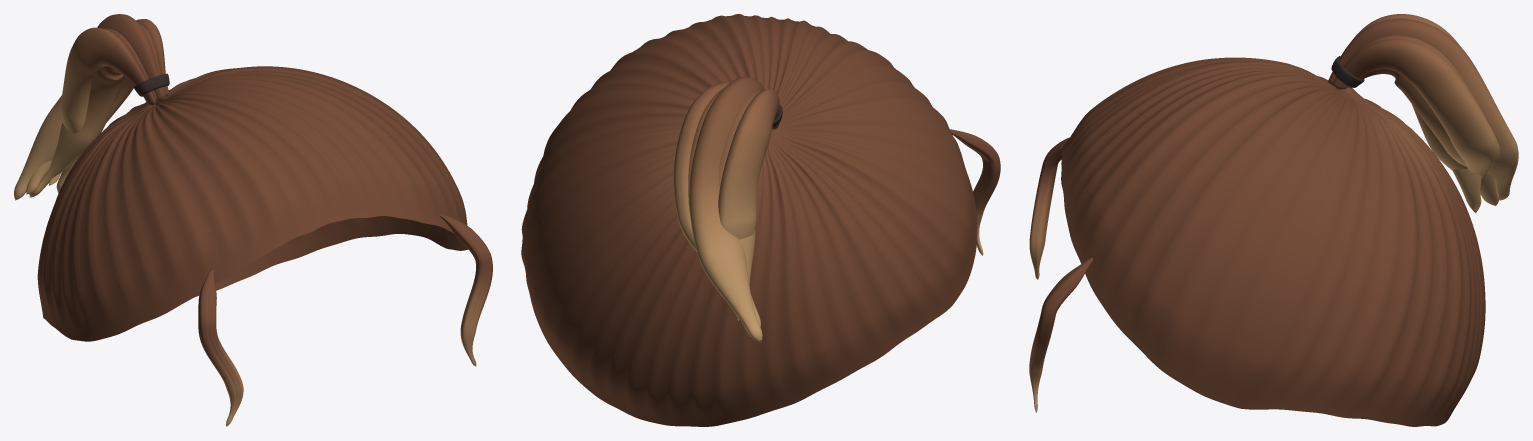
The model's file is ponytail-ears-ombre.glb.
3 views of the same model, side by side, from view 1: azimuth 30°, elevation 25°; view 2: azimuth 150°, elevation 25°; view 3: azimuth 270°, elevation 25° (orthographic). The views are drawn at different scales.
Parts seen in each view (by area): view 1: Hair / swept roots220, Hair / rounded tail220 0, Hair / rounded tail220 1, Hair / rounded tail220 2, Hair / adjustable front216 -1, Hair / adjustable front216 1, Hair / rounded tail220 3, Hair / rounded tail220 4, Hair / tie220; view 2: Hair / swept roots220, Hair / rounded tail220 2, Hair / rounded tail220 0, Hair / rounded tail220 4, Hair / adjustable front216 -1, Hair / rounded tail220 1, Hair / rounded tail220 3; view 3: Hair / swept roots220, Hair / rounded tail220 4, Hair / rounded tail220 2, Hair / adjustable front216 1, Hair / rounded tail220 3, Hair / adjustable front216 -1, Hair / rounded tail220 0, Hair / rounded tail220 1.
Boxes of the visible parts, x1,y1,x2,y2 form: Hair / swept roots220: (37, 66, 467, 341); Hair / rounded tail220 0: (56, 27, 156, 193); Hair / rounded tail220 1: (29, 28, 157, 197); Hair / rounded tail220 2: (14, 14, 165, 200); Hair / adjustable front216 -1: (198, 269, 243, 426); Hair / adjustable front216 1: (440, 213, 492, 366); Hair / rounded tail220 3: (26, 23, 166, 194); Hair / rounded tail220 4: (49, 19, 169, 185); Hair / tie220: (134, 73, 169, 96); Hair / swept roots220: (521, 14, 977, 426); Hair / rounded tail220 2: (689, 77, 764, 342); Hair / rounded tail220 0: (718, 88, 779, 320); Hair / rounded tail220 4: (673, 82, 730, 251); Hair / adjustable front216 -1: (949, 129, 1000, 255); Hair / rounded tail220 1: (718, 90, 772, 336); Hair / rounded tail220 3: (688, 88, 760, 327); Hair / swept roots220: (1061, 57, 1485, 426); Hair / rounded tail220 4: (1333, 38, 1496, 189); Hair / rounded tail220 2: (1328, 18, 1518, 200); Hair / adjustable front216 1: (1029, 257, 1092, 412); Hair / rounded tail220 3: (1333, 35, 1499, 167); Hair / adjustable front216 -1: (1029, 137, 1069, 279); Hair / rounded tail220 0: (1352, 14, 1481, 213); Hair / rounded tail220 1: (1412, 104, 1499, 206).
Bounding box in the file's own units: 0.7726 × 0.6271 × 0.7903.
Materials: 9 (8 with a texture image).
